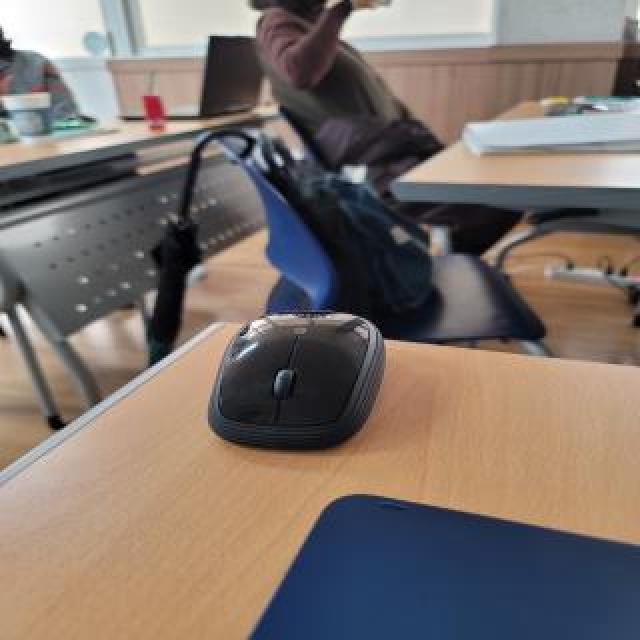mouse: (208, 299, 415, 479)
